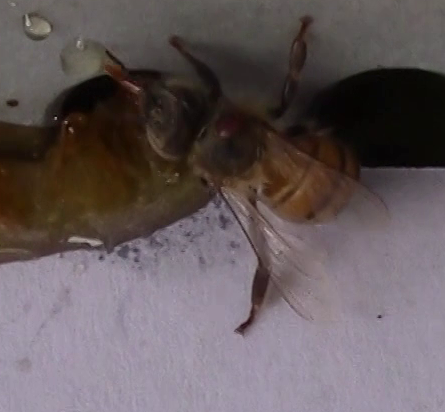Varroa destructor: (211, 109, 249, 139)
